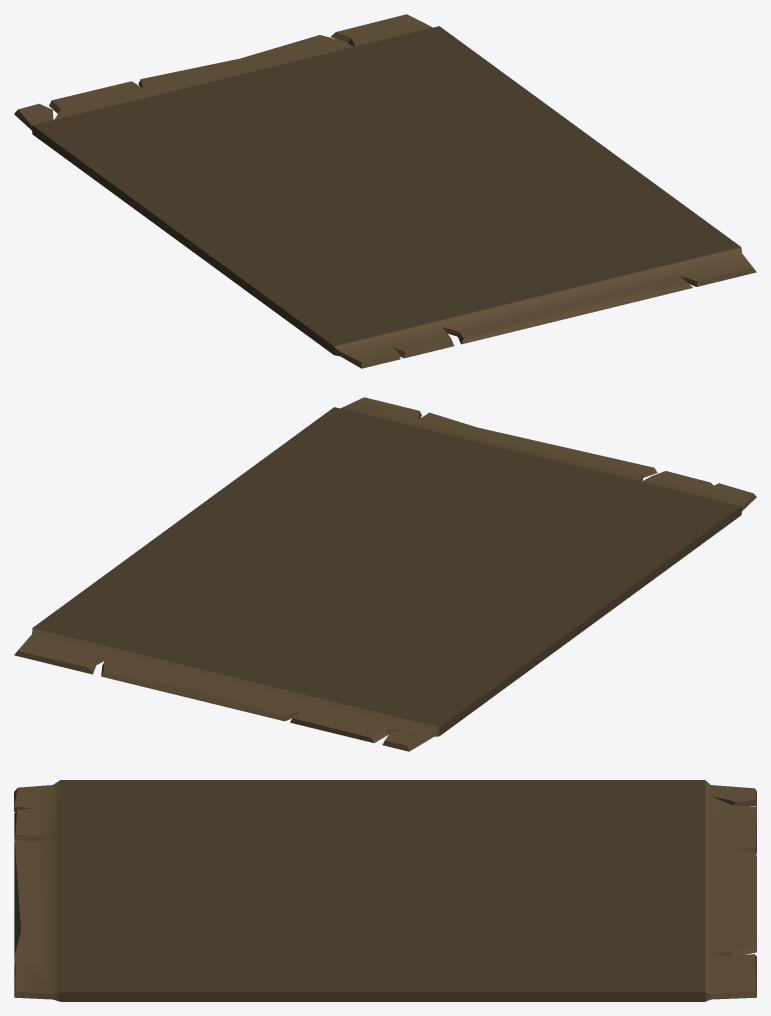
File: SM_Prop_Rug_02.fbx
3 views of the same model, one above another, from view 1: azimuth 30°, elevation 25°; view 2: azimuth 150°, elevation 25°; view 3: azimuth 270°, elevation 25° (orthographic). The views are drawn at different scales.
Parts seen in each view (by area): view 1: SM_Prop_Rug_02; view 2: SM_Prop_Rug_02; view 3: SM_Prop_Rug_02.
Boxes of the visible parts, x1=… form: SM_Prop_Rug_02: x1=14, y1=14, x2=756, y2=368; SM_Prop_Rug_02: x1=14, y1=397, x2=756, y2=751; SM_Prop_Rug_02: x1=14, y1=780, x2=756, y2=1001.
Bounding box in the file's own units: 1.01 × 0.0211 × 1.5.
1 material, 1 textured.
